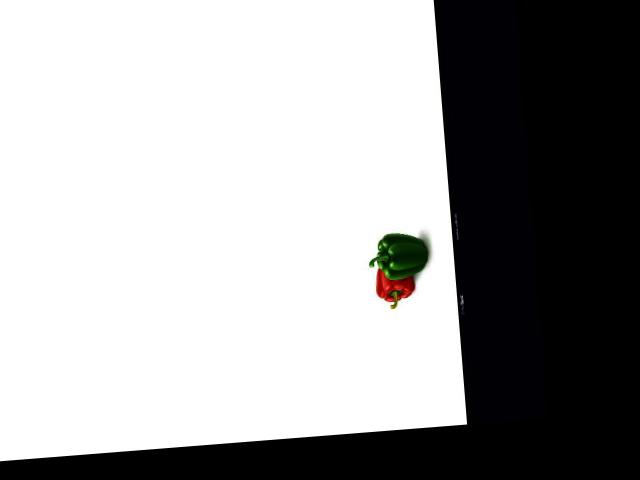bell_pepper: (369, 264, 415, 310)
